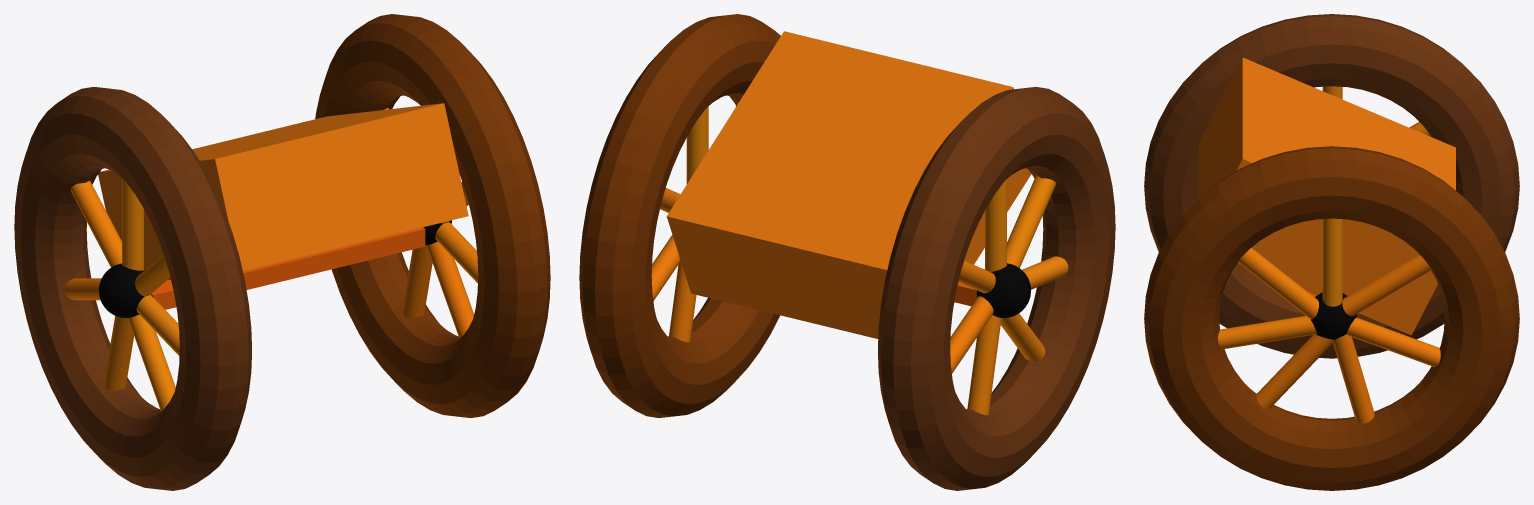
Rendered from Wheel.fbx.
3 views of the same model, side by side, from view 1: azimuth 30°, elevation 25°; view 2: azimuth 150°, elevation 25°; view 3: azimuth 270°, elevation 25° (orthographic). The views are drawn at different scales.
Visible parts, largest first — view 1: wheel1, wheel1.001, stage, 立方体.001, 円柱.010, 円柱.004, 円柱.007, 球, 円柱, 円柱.005, 円柱.009, 円柱.003 (+3 smaller); view 2: stage, wheel1, wheel1.001, 円柱.005, 円柱.002, 球, 円柱, 円柱.006, 円柱.009, 円柱.004, 円柱.013, 円柱.008 (+2 smaller); view 3: wheel1.001, wheel1, stage, 円柱.011, 円柱.008, 円柱.001, 円柱.012, 円柱.010, 円柱.013, 円柱.009, 球.001.
Part boxes in pixels (x1,y1,x2,y2): wheel1: [14, 87, 251, 490]; wheel1.001: [315, 14, 550, 417]; stage: [98, 103, 468, 279]; 立方体.001: [150, 227, 425, 309]; 円柱.010: [426, 241, 474, 338]; 円柱.004: [128, 314, 175, 411]; 円柱.007: [70, 180, 121, 267]; 球: [99, 263, 144, 317]; 円柱: [122, 178, 143, 270]; 円柱.005: [104, 316, 133, 390]; 円柱.009: [402, 245, 432, 318]; 円柱.003: [136, 294, 179, 356]; stage: [666, 31, 1031, 338]; wheel1: [878, 87, 1115, 490]; wheel1.001: [579, 14, 780, 417]; 円柱.005: [967, 315, 1001, 415]; 円柱.002: [1007, 175, 1055, 268]; 球: [976, 263, 1030, 317]; 円柱: [985, 179, 1006, 271]; 円柱.006: [950, 296, 993, 373]; 円柱.009: [669, 261, 696, 342]; 円柱.004: [1000, 313, 1045, 360]; 円柱.013: [686, 106, 708, 184]; 円柱.008: [651, 235, 680, 300]; wheel1.001: [1144, 146, 1519, 490]; wheel1: [1144, 14, 1519, 358]; stage: [1198, 57, 1455, 335]; 円柱.011: [1218, 316, 1316, 349]; 円柱.008: [1346, 317, 1440, 366]; 円柱.001: [1342, 254, 1431, 316]; 円柱.012: [1238, 248, 1318, 319]; 円柱.010: [1256, 334, 1334, 408]; 円柱.013: [1322, 218, 1342, 306]; 円柱.009: [1333, 334, 1374, 423]; 球.001: [1311, 292, 1356, 339].
Size of the model in its own units: 301 by 300 by 300.
